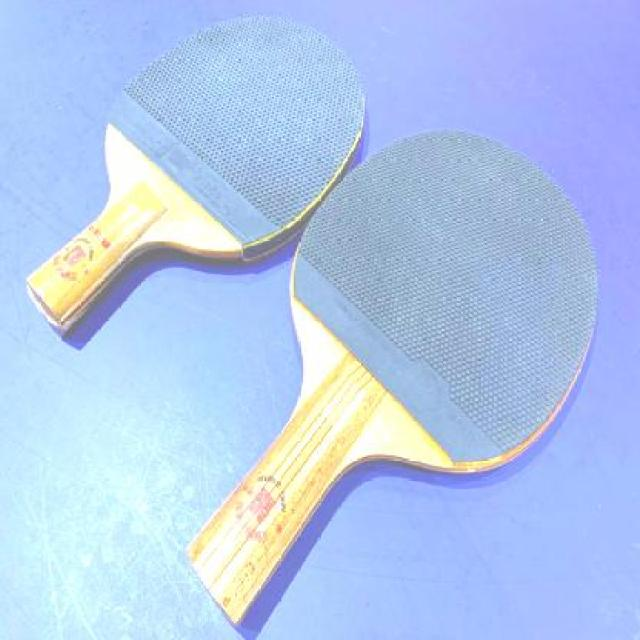table_tennis_racket: (282, 132, 604, 482), (97, 11, 371, 264)
